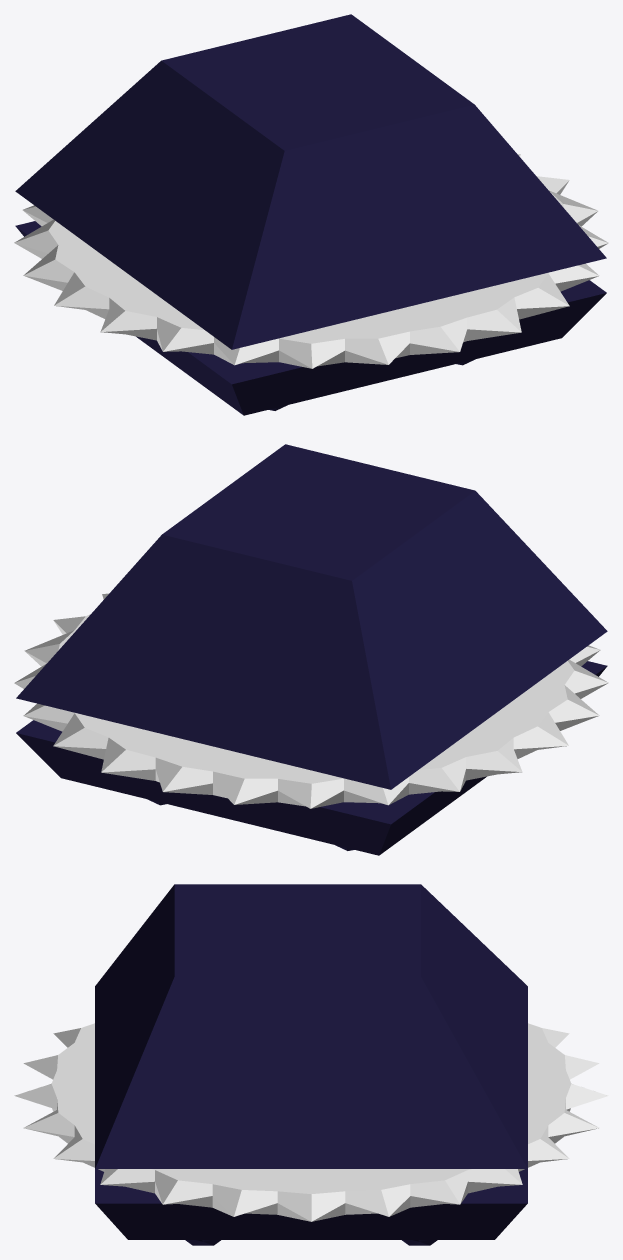
File: roomba-saw.fbx
The picture shows the model from 3 angles, top to bottom: view 1: azimuth 30°, elevation 25°; view 2: azimuth 150°, elevation 25°; view 3: azimuth 270°, elevation 25°; orthographic projection.
Parts seen in each view (by area): view 1: shell, saw, lower body; view 2: shell, saw, lower body; view 3: shell, saw, lower body.
Boxes of the visible parts, box(x1,y1,x2,y2) form: shell: box(15, 14, 606, 349); saw: box(14, 153, 608, 368); lower body: box(15, 221, 606, 415); shell: box(16, 444, 607, 789); saw: box(14, 593, 608, 808); lower body: box(16, 661, 607, 855); shell: box(95, 884, 527, 1168); saw: box(14, 1023, 608, 1221); lower body: box(95, 1169, 527, 1239).
Bounding box in the file's own units: 275 × 137 × 275.
